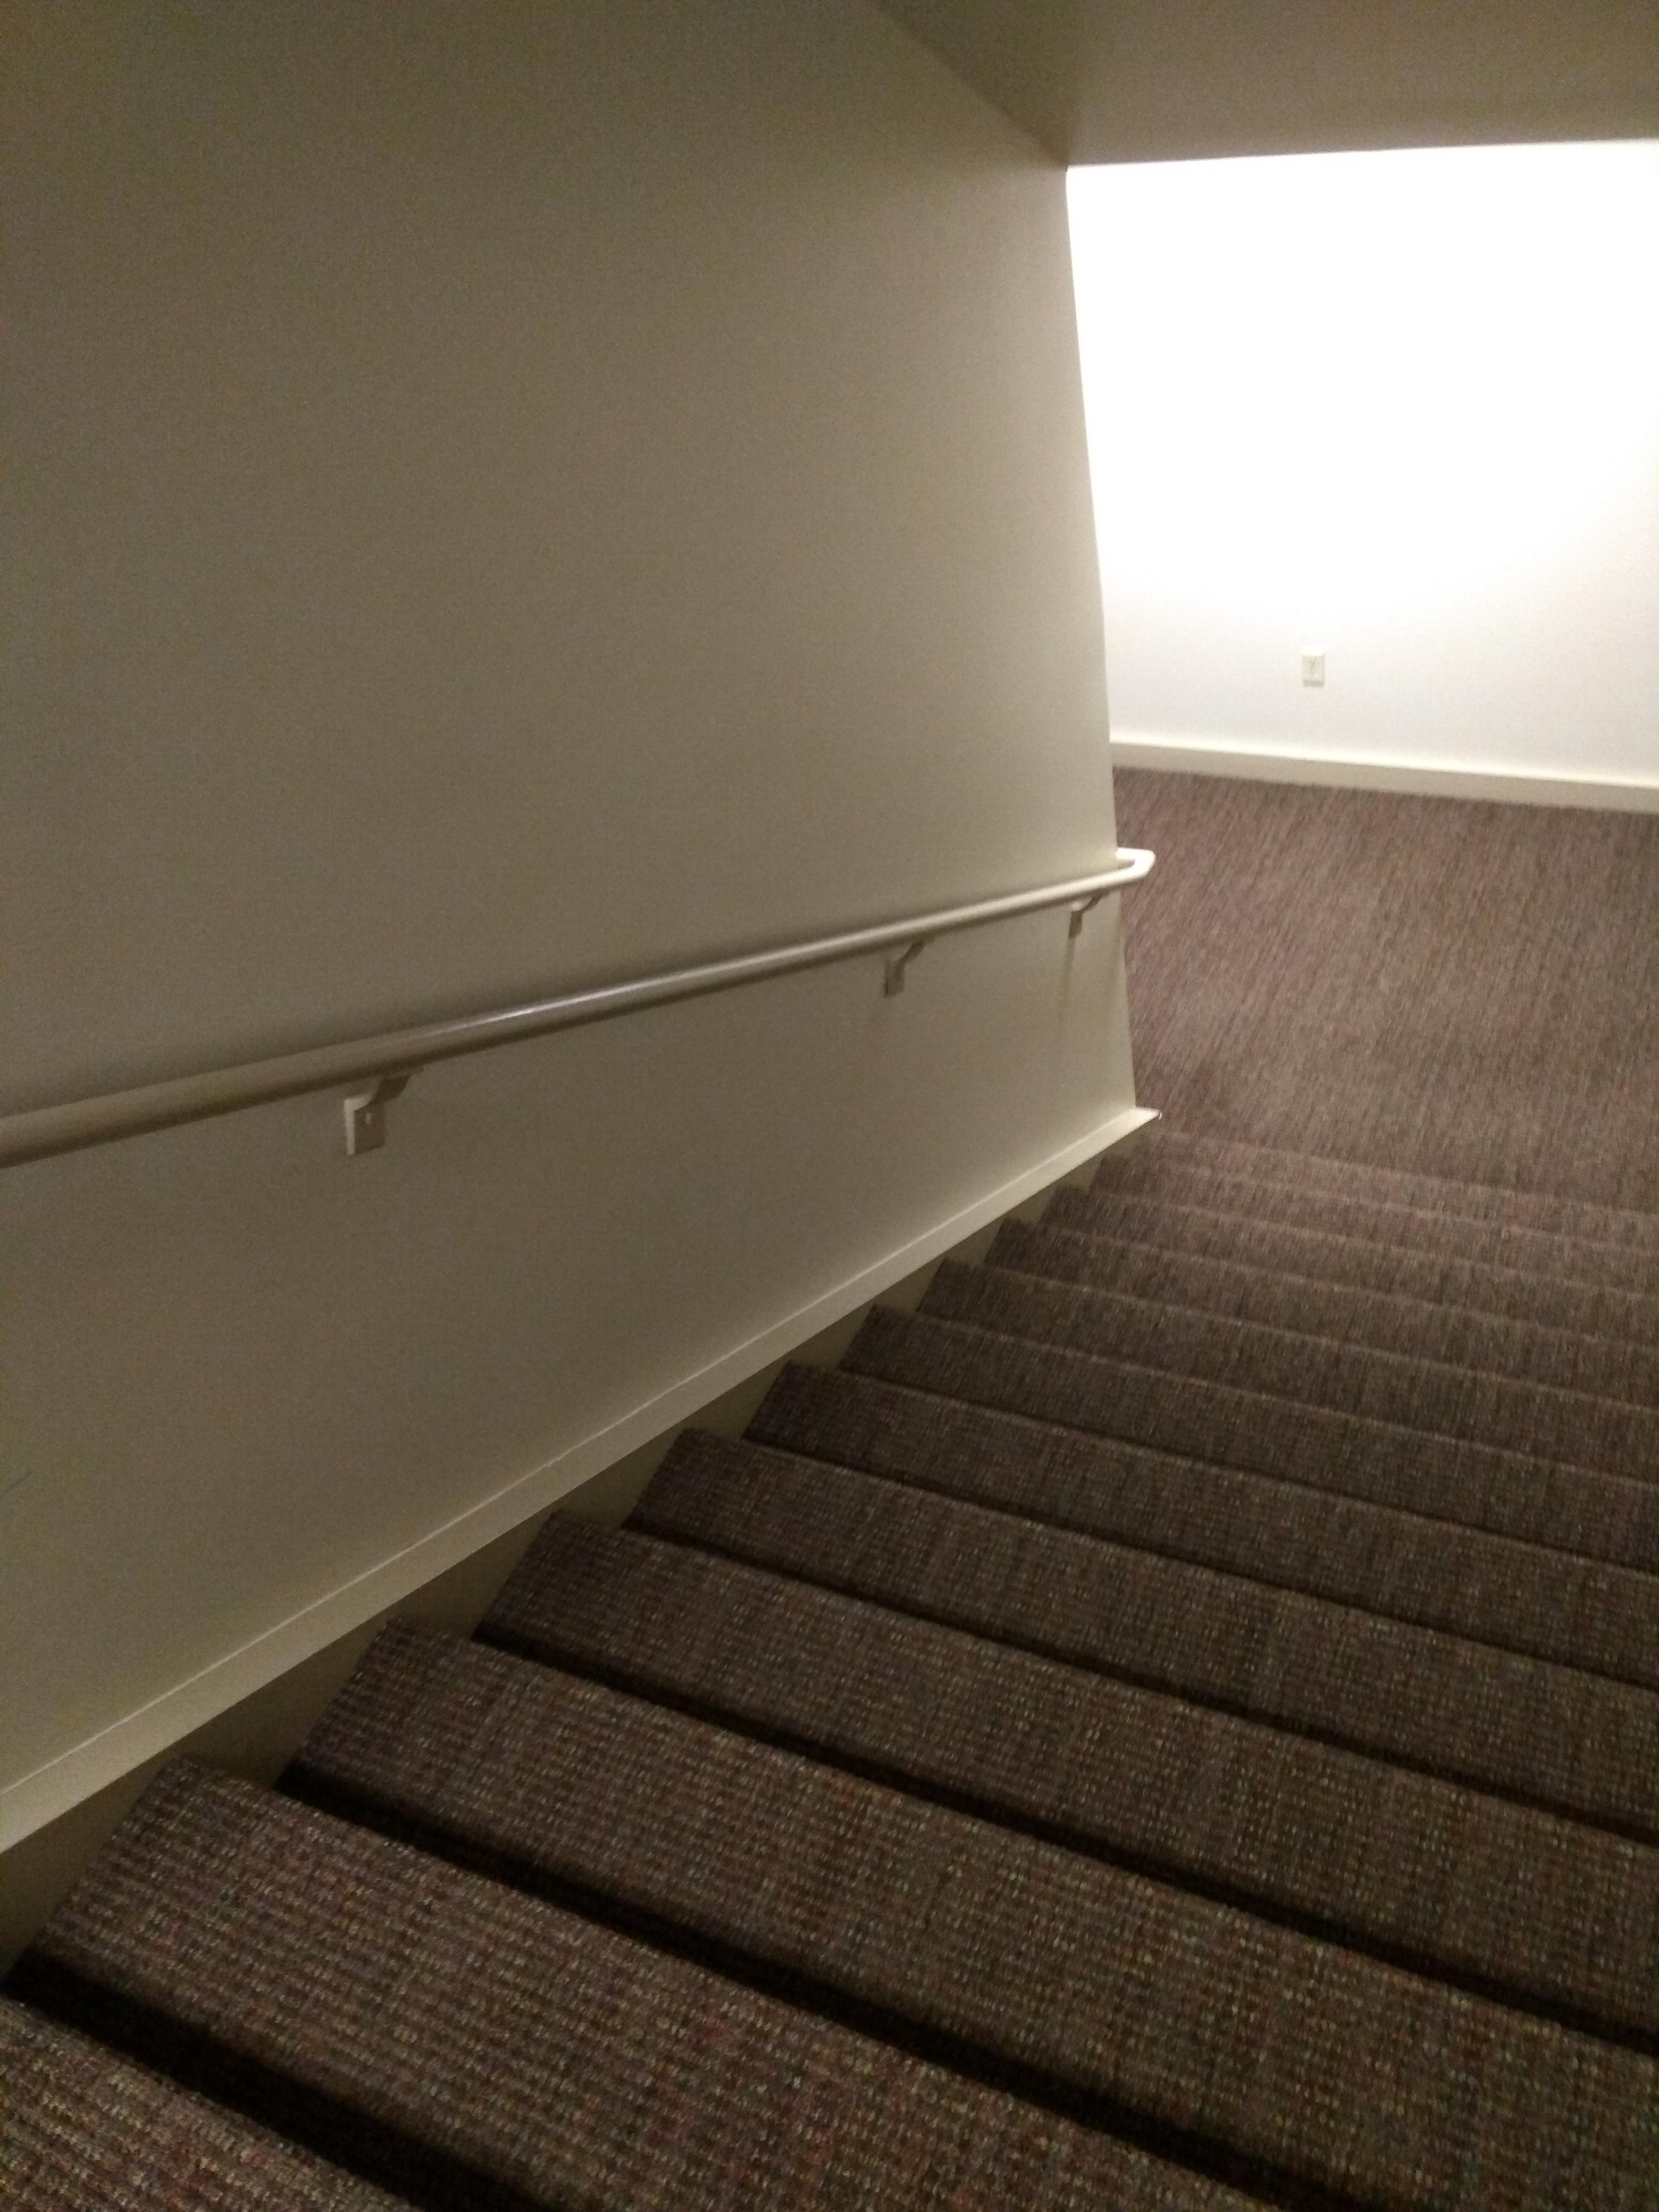stairs_down: (85, 1190, 1635, 2165)
